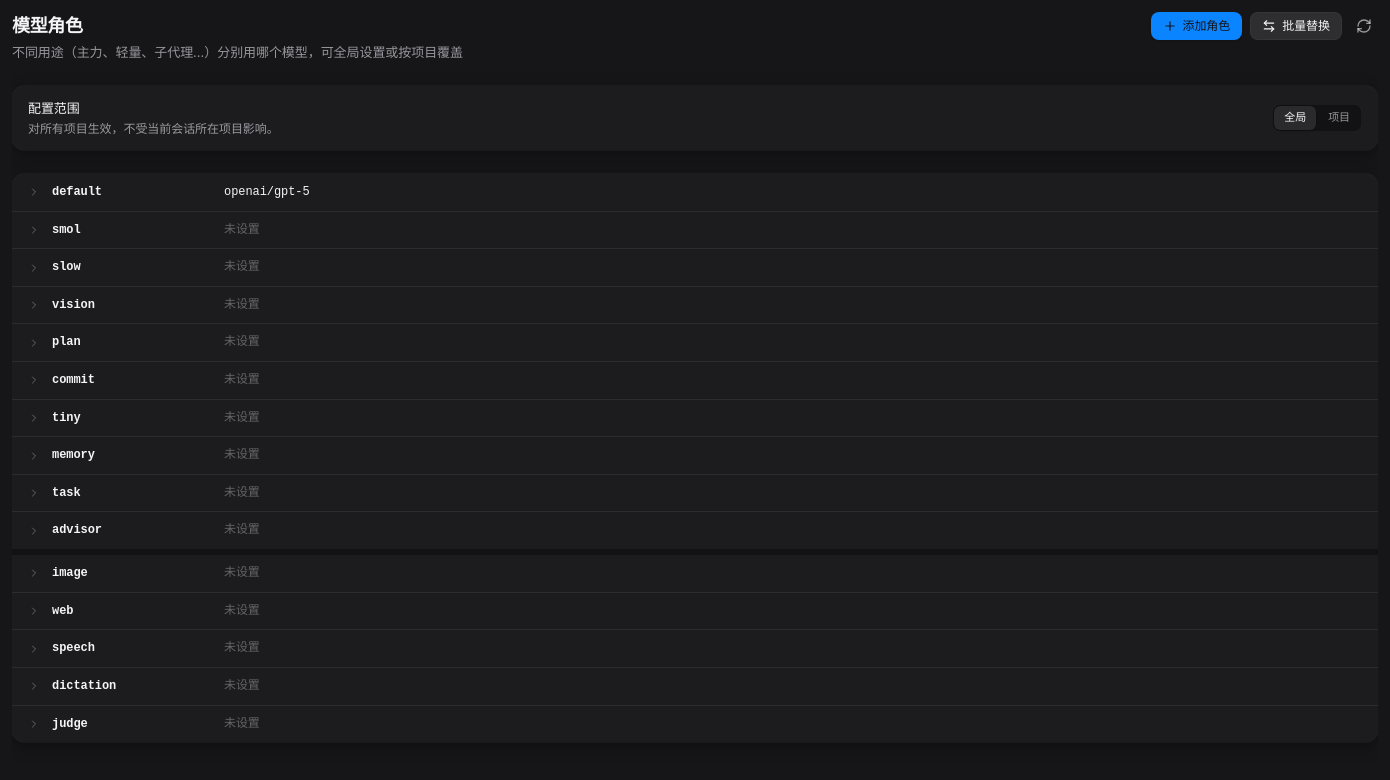
模型角色 scope row › reveals the project picker and reads the project layer once 项目 is chosen
The width and height of the screenshot is (1390, 780).
Click the radio button labelled "项目" at (1339, 118), box x1=1318 y1=106 x2=1360 y2=130
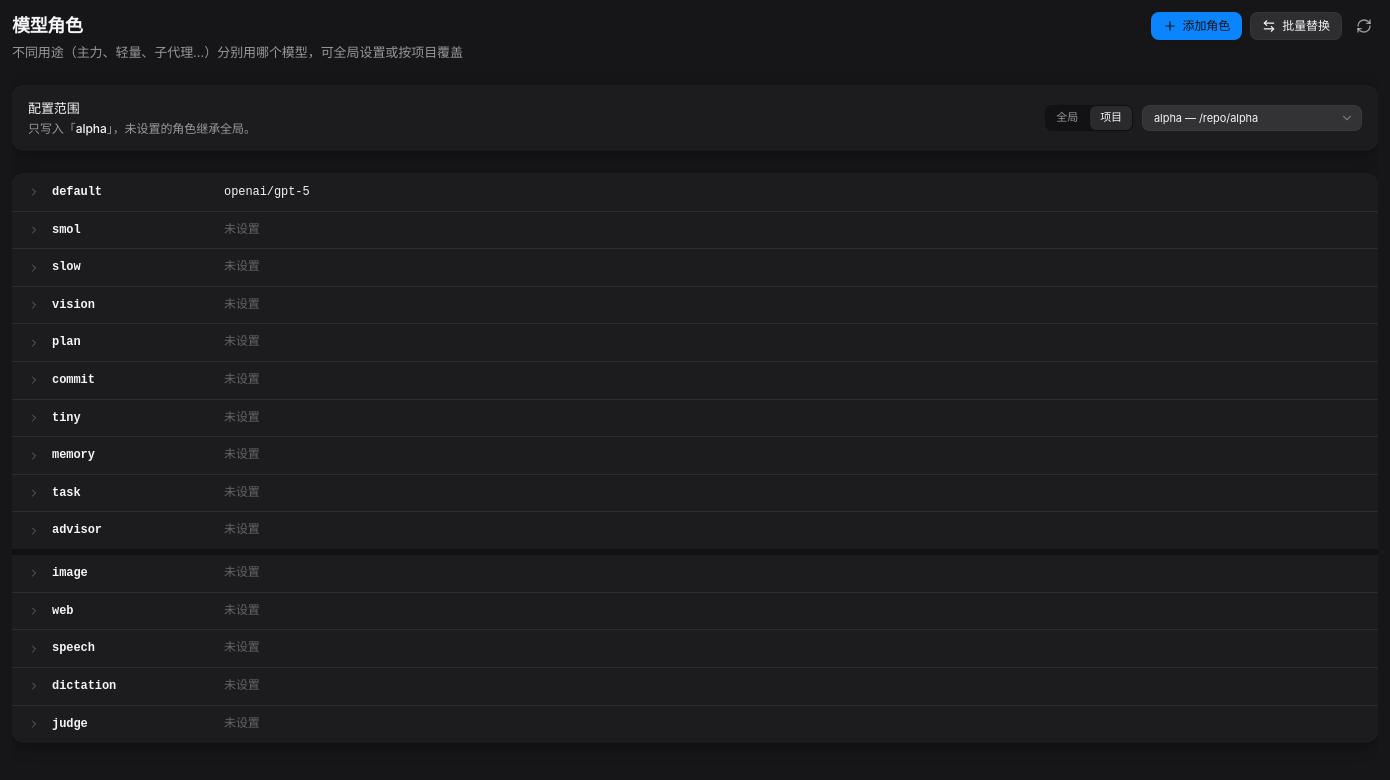
Expected: the dropdown named "选择要配置的项目" shows "alpha — /repo/alpha", x1=1142 y1=105 x2=1362 y2=131
Expected: the text "只写入「alpha」，未设置的角色继承全局。" is shown, x1=28 y1=121 x2=256 y2=136
